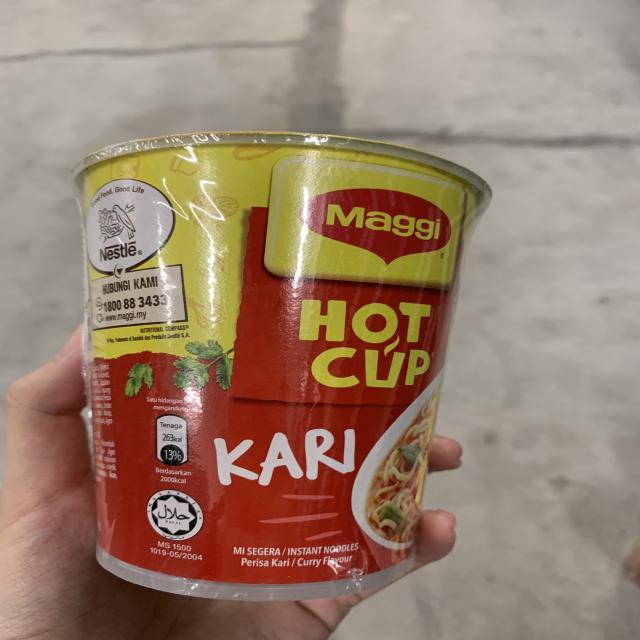object_name: (82, 140, 428, 585)
